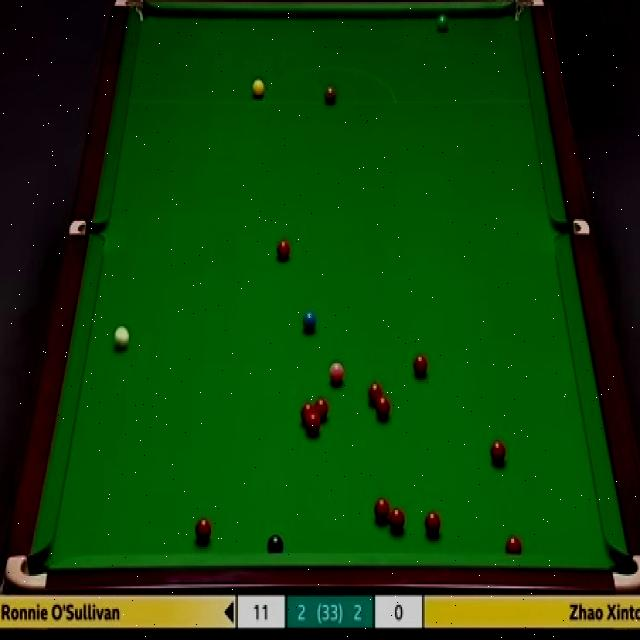black-ball: (266, 534, 286, 555)
blue-ball: (301, 309, 319, 332)
brown-ball: (324, 82, 336, 103)
green-ball: (436, 14, 450, 34)
pink-ball: (328, 362, 346, 388)
red-ball: (412, 352, 430, 379), (424, 512, 442, 539), (194, 516, 211, 544), (390, 504, 405, 534), (373, 498, 390, 524), (491, 440, 508, 465), (300, 402, 315, 428), (376, 395, 391, 420), (277, 237, 290, 264), (314, 398, 328, 422), (504, 534, 522, 552), (306, 416, 322, 436), (368, 382, 384, 402)
white-ball: (111, 324, 131, 351)
yellow-ball: (251, 80, 264, 98)
